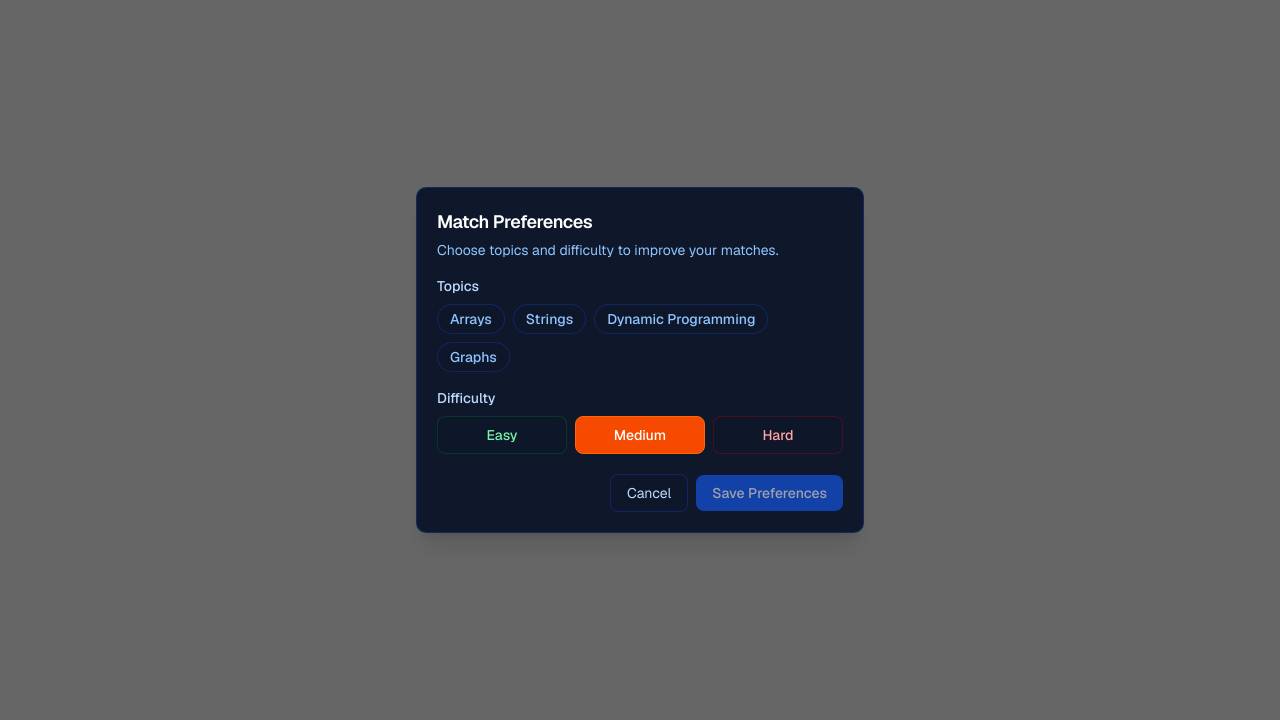
Test: PreferenceModal › displays error when save fails
Step 1. Click the button "Arrays" → (471, 319), box x1=437 y1=304 x2=505 y2=334
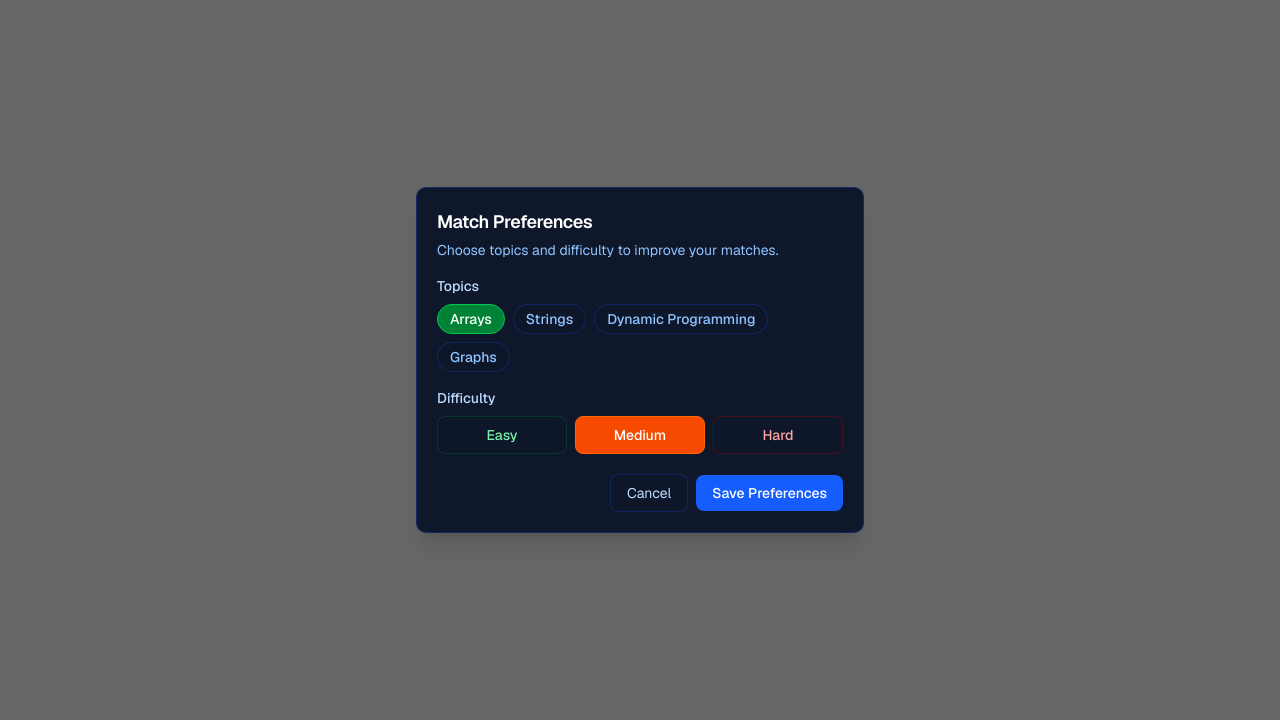
Step 2. Click the button "Save Preferences" → (770, 493), box x1=696 y1=475 x2=843 y2=511
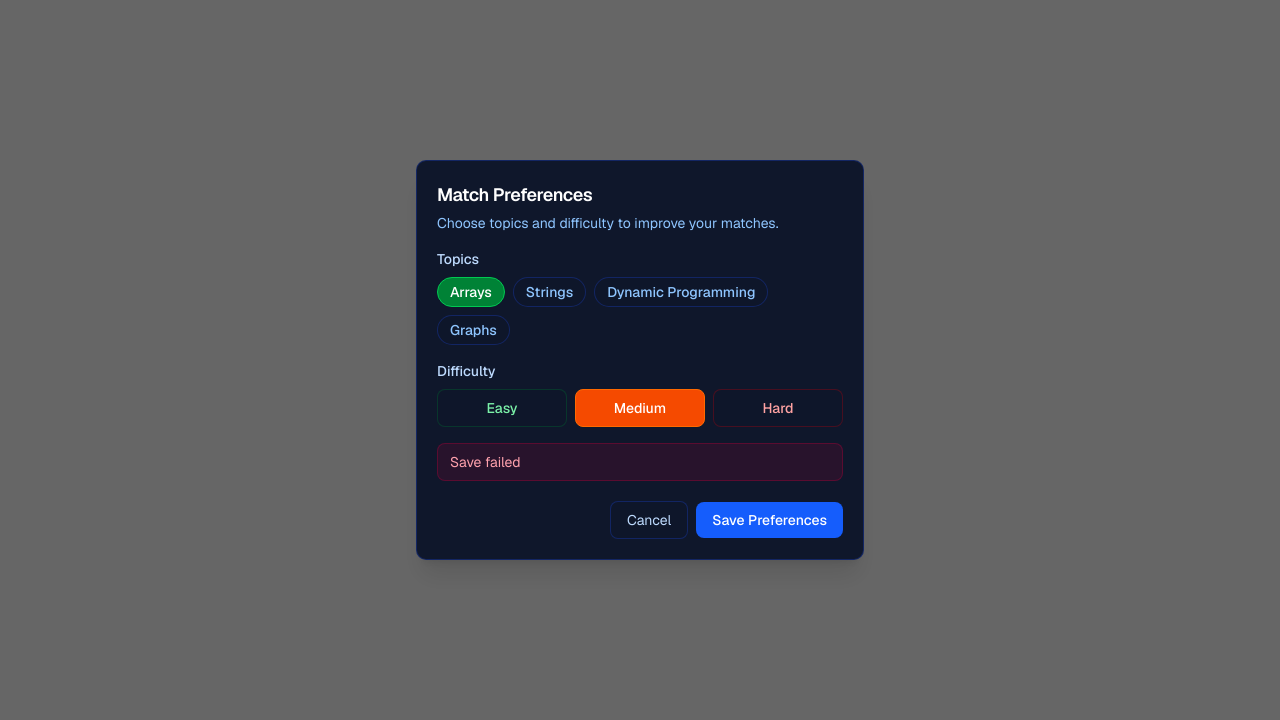
Check: the text "Save failed" is shown, box x1=437 y1=443 x2=843 y2=481
